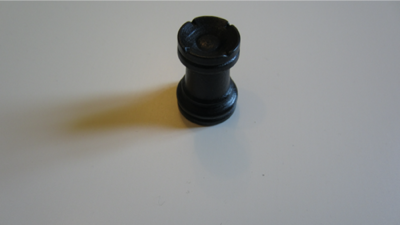black-rook: (174, 15, 243, 128)
